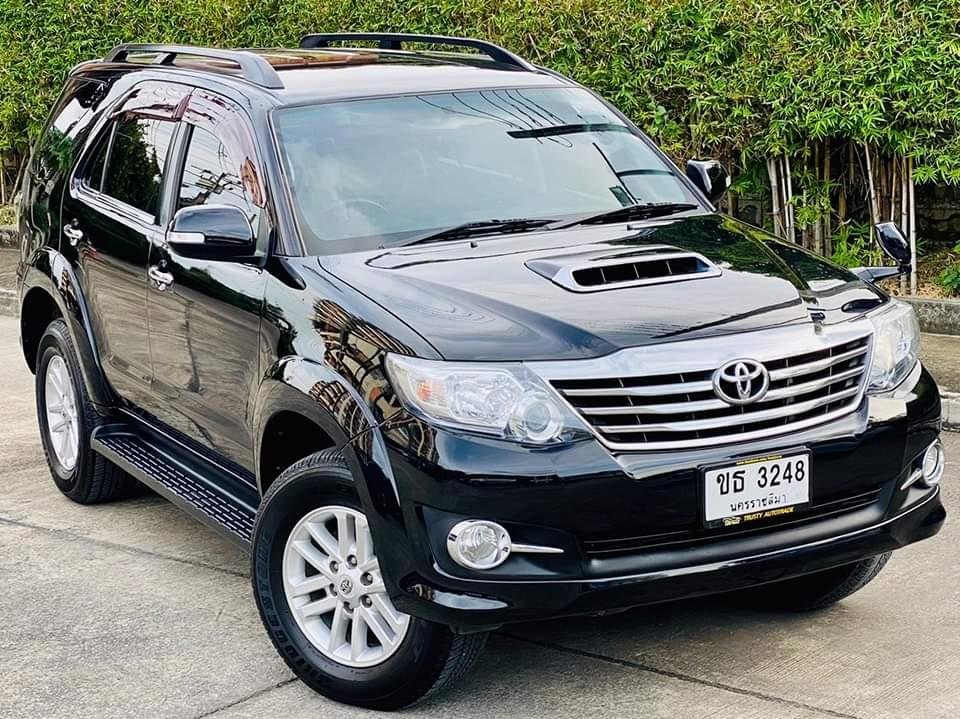license-plate: (693, 446, 817, 535)
